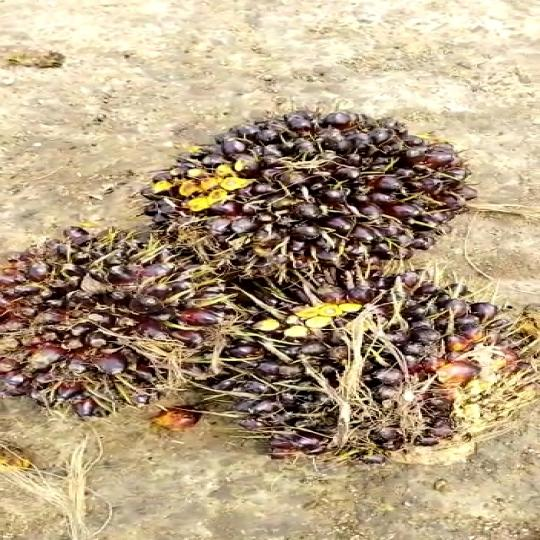mentah: (228, 270, 540, 493), (143, 108, 462, 284), (0, 224, 209, 426)
